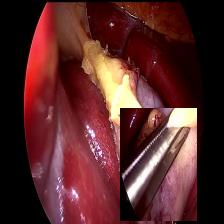Grasper: (119, 107, 196, 220)
